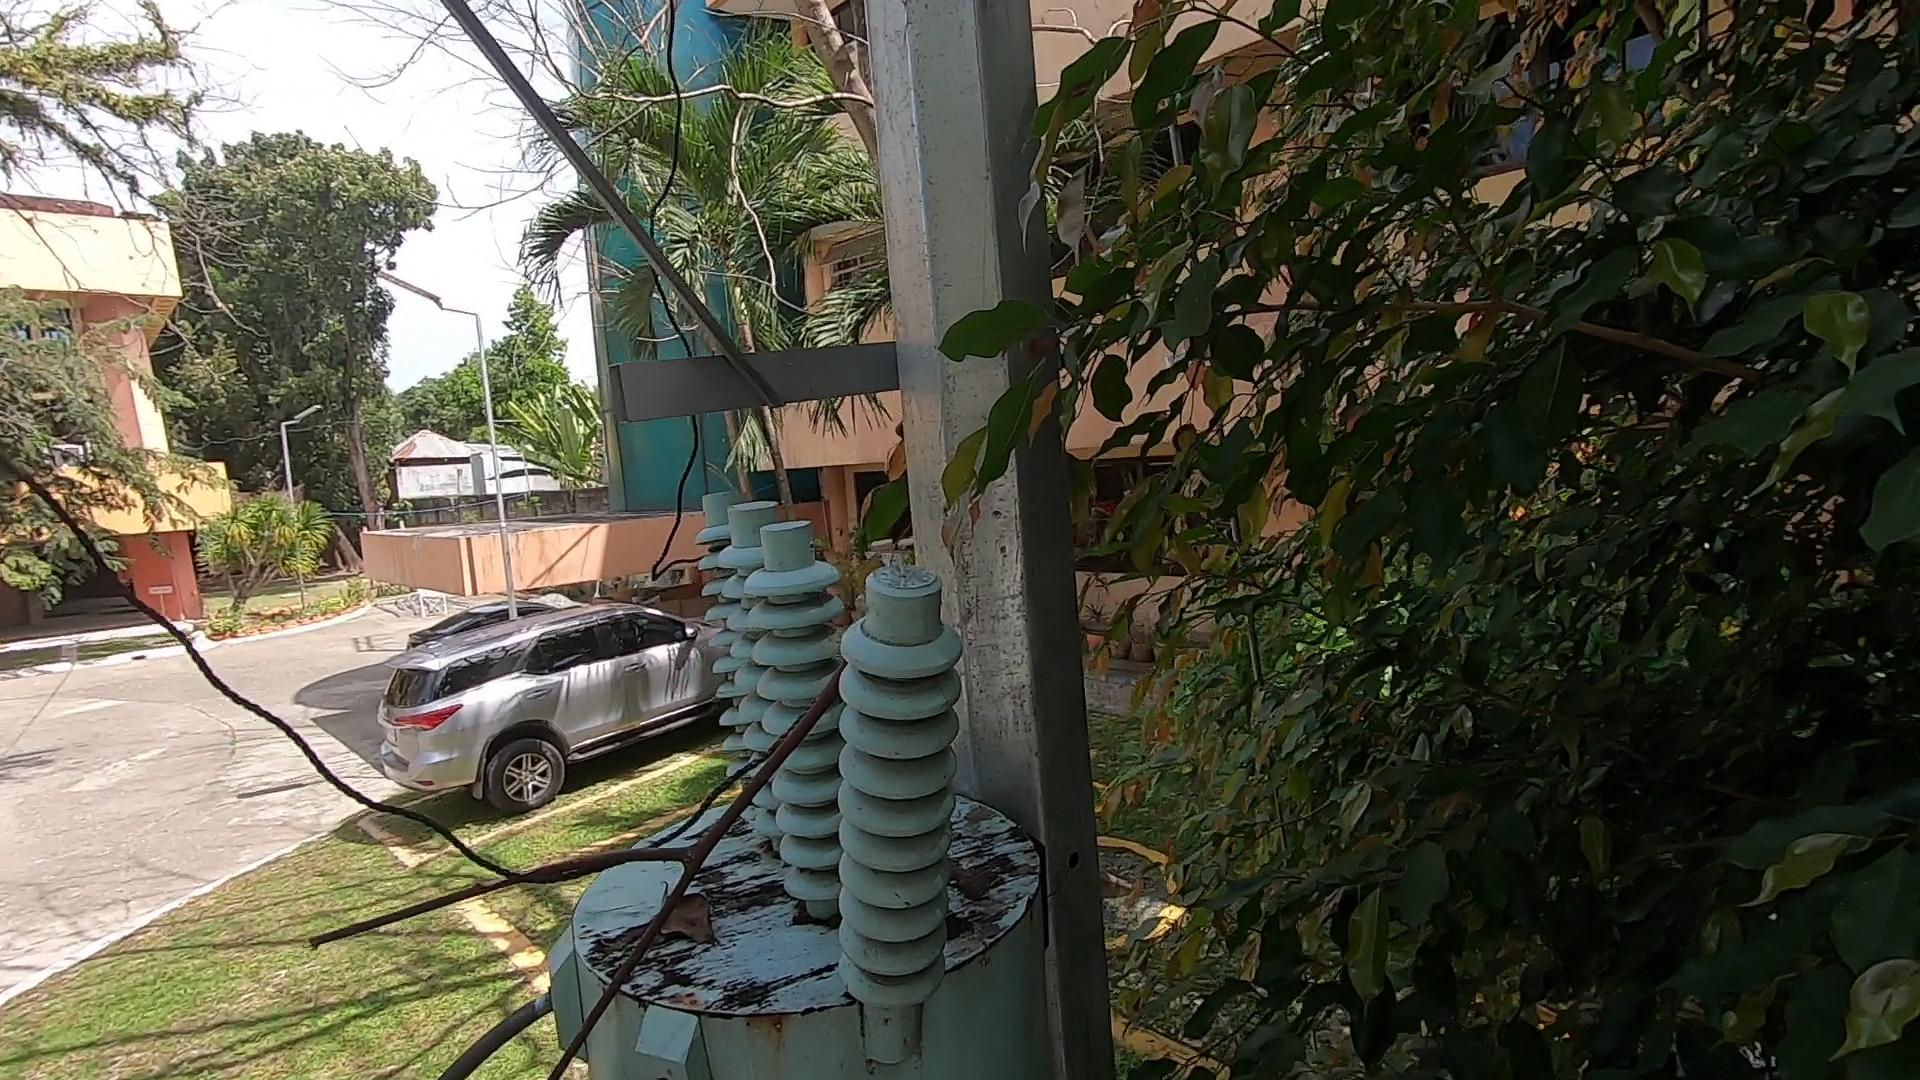leaf: (633, 877, 727, 952)
tree branch: (286, 644, 887, 1080)
